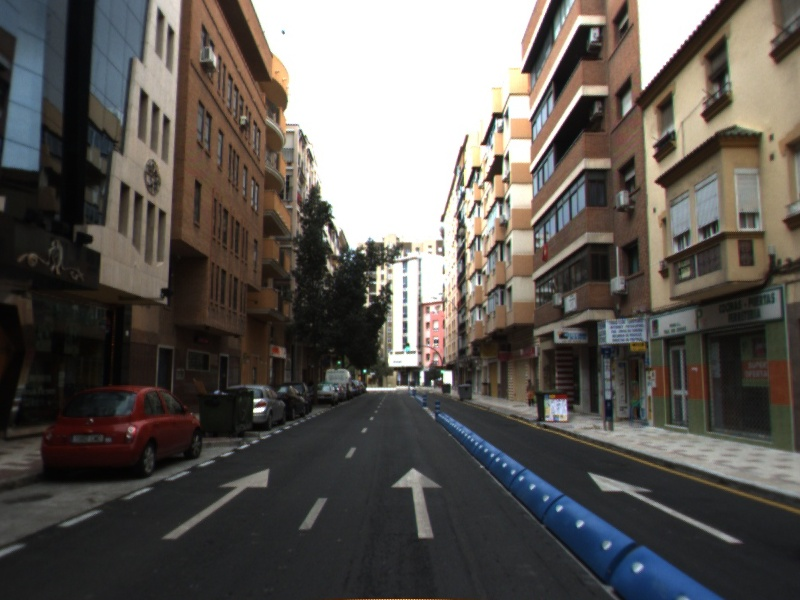STRAIGHT: (586, 470, 745, 545), (160, 467, 271, 541), (389, 466, 444, 540)
